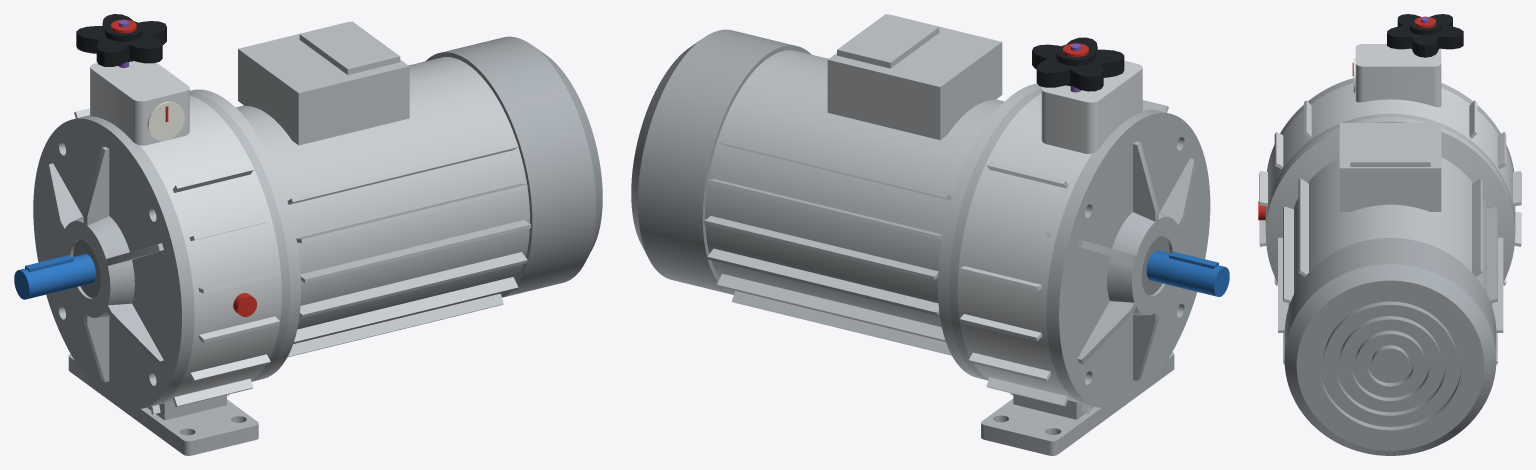
Rendered from variator.glb.
The picture shows the model from 3 angles, left to right: view 1: azimuth 30°, elevation 25°; view 2: azimuth 150°, elevation 25°; view 3: azimuth 270°, elevation 25°; orthographic projection. The views are drawn at different scales.
Parts seen in each view (by area): view 1: motor__full, housing__full, cover__full, fan_cover__full, cover__cut, feet__full, topbox__full, knob__full, tbox_lid__full, out_shaft__full, adapter__full, topbox__cut (+1 smaller); view 2: motor__full, housing__cut, cover__cut, fan_cover__full, cover__full, topbox__cut, feet__cut, knob__full, tbox_lid__full, out_shaft__full, adapter__cut, topbox__full (+1 smaller); view 3: fan_cover__full, motor__full, housing__full, housing__cut, topbox__full, topbox__cut, knob__full, tbox_lid__full, adapter__cut, adapter__full, cover__full, cover__cut.
Part boxes in pixels (box(x1,y1,x2,y2)): motor__full: box(189, 22, 530, 381); housing__full: box(140, 105, 281, 414); cover__full: box(34, 127, 194, 409); fan_cover__full: box(425, 36, 602, 297); cover__cut: box(33, 115, 116, 398); feet__full: box(69, 358, 258, 455); topbox__full: box(91, 62, 189, 145); knob__full: box(76, 14, 166, 66); tbox_lid__full: box(299, 21, 400, 74); out_shaft__full: box(14, 253, 95, 299); adapter__full: box(207, 103, 289, 381); topbox__cut: box(90, 61, 171, 126); motor__full: box(704, 14, 1041, 379); housing__cut: box(957, 99, 1091, 413); cover__cut: box(1046, 121, 1157, 408); fan_cover__full: box(631, 29, 811, 294); cover__full: box(1060, 109, 1210, 401); topbox__cut: box(1041, 77, 1125, 153); feet__cut: box(981, 394, 1115, 455); knob__full: box(1032, 37, 1124, 91); tbox_lid__full: box(837, 14, 939, 68); out_shaft__full: box(1146, 250, 1229, 296); adapter__cut: box(949, 97, 1032, 380); topbox__full: box(1042, 60, 1142, 145); fan_cover__full: box(1284, 238, 1496, 455); motor__full: box(1265, 117, 1515, 364); housing__full: box(1259, 83, 1425, 285); housing__cut: box(1390, 88, 1521, 285); topbox__full: box(1355, 44, 1439, 104); topbox__cut: box(1390, 48, 1441, 107); knob__full: box(1387, 14, 1463, 57); tbox_lid__full: box(1350, 140, 1430, 166); adapter__cut: box(1390, 113, 1515, 227); adapter__full: box(1265, 113, 1390, 228); cover__full: box(1267, 78, 1355, 171); cover__cut: box(1441, 83, 1514, 171).
Size of the model in its own units: 379 by 256 by 196.
